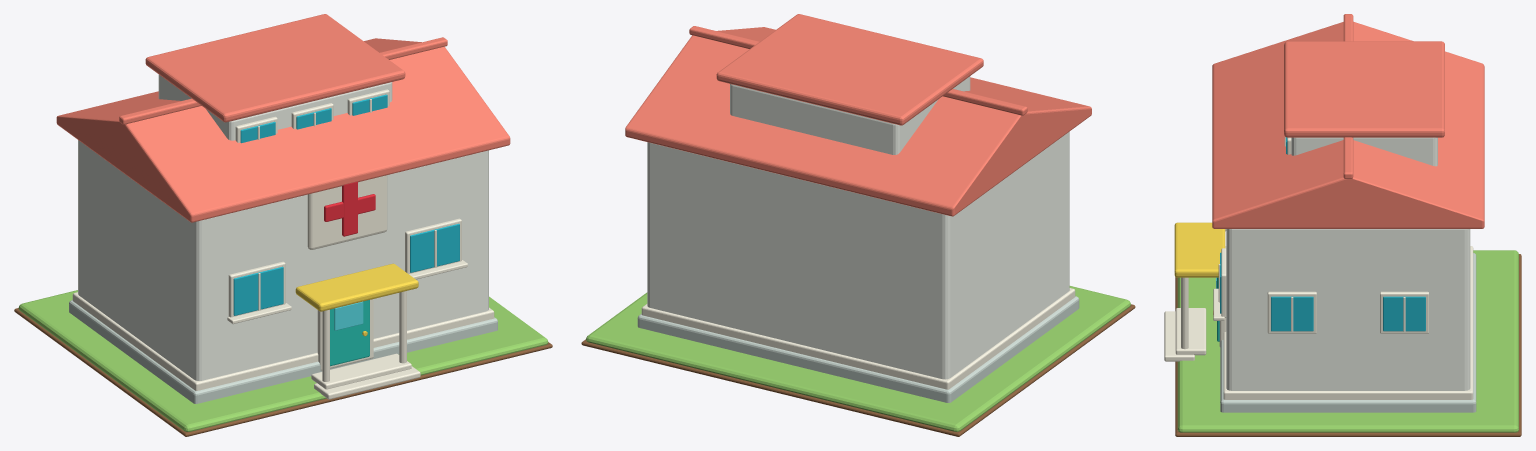
The model's file is SM_Hospital.fbx.
3 renders of one model, left to right at view 1: azimuth 30°, elevation 25°; view 2: azimuth 150°, elevation 25°; view 3: azimuth 270°, elevation 25°, orthographic. The views are drawn at different scales.
Visible parts, largest first — view 1: Main building volume.002, Solid pitched roof.004, Hospital upper cap, Beveled site foundation.008, Stone building plinth.002, Wall base course.002, Hospital sign board, Entrance canopy.003, Foundation shadow course.008, Hospital upper floor, Recessed turquoise glass.037, Recessed turquoise glass.038 (+12 smaller); view 2: Main building volume.002, Solid pitched roof.004, Hospital upper cap, Beveled site foundation.008, Stone building plinth.002, Hospital upper floor, Wall base course.002, Foundation shadow course.008, Roof ridge cap.004; view 3: Main building volume.002, Solid pitched roof.004, Beveled site foundation.008, Hospital upper cap, Stone building plinth.002, Wall base course.002, Entrance canopy.003, Foundation shadow course.008, Hospital upper floor, Side glass.017, Side glass.016, Porch step.005 (+6 smaller).
Part boxes in pixels (x1=…): Main building volume.002: x1=78, y1=140, x2=488, y2=380; Solid pitched roof.004: x1=56, y1=38, x2=510, y2=222; Hospital upper cap: x1=145, y1=14, x2=405, y2=122; Beveled site foundation.008: x1=18, y1=290, x2=548, y2=431; Stone building plinth.002: x1=69, y1=300, x2=497, y2=403; Wall base course.002: x1=72, y1=292, x2=494, y2=390; Hospital sign board: x1=307, y1=175, x2=387, y2=249; Entrance canopy.003: x1=295, y1=263, x2=418, y2=311; Foundation shadow course.008: x1=14, y1=308, x2=552, y2=436; Hospital upper floor: x1=158, y1=74, x2=392, y2=140; Recessed turquoise glass.037: x1=233, y1=266, x2=283, y2=315; Recessed turquoise glass.038: x1=410, y1=223, x2=459, y2=272; Main building volume.002: x1=647, y1=131, x2=1069, y2=379; Solid pitched roof.004: x1=625, y1=27, x2=1091, y2=216; Hospital upper cap: x1=716, y1=14, x2=983, y2=125; Beveled site foundation.008: x1=586, y1=286, x2=1130, y2=431; Stone building plinth.002: x1=637, y1=296, x2=1079, y2=402; Hospital upper floor: x1=730, y1=76, x2=970, y2=154; Wall base course.002: x1=641, y1=288, x2=1075, y2=389; Foundation shadow course.008: x1=581, y1=304, x2=1135, y2=436; Roof ridge cap.004: x1=689, y1=26, x2=1027, y2=115; Main building volume.002: x1=1226, y1=229, x2=1470, y2=390; Solid pitched roof.004: x1=1212, y1=21, x2=1484, y2=228; Beveled site foundation.008: x1=1177, y1=250, x2=1518, y2=432; Hospital upper cap: x1=1284, y1=41, x2=1444, y2=137; Stone building plinth.002: x1=1220, y1=253, x2=1476, y2=412; Wall base course.002: x1=1223, y1=246, x2=1473, y2=399; Entrance canopy.003: x1=1174, y1=222, x2=1225, y2=277; Foundation shadow course.008: x1=1175, y1=254, x2=1521, y2=436; Hospital upper floor: x1=1291, y1=137, x2=1437, y2=166; Side glass.017: x1=1383, y1=296, x2=1425, y2=331; Side glass.016: x1=1271, y1=296, x2=1313, y2=331; Porch step.005: x1=1175, y1=308, x2=1206, y2=355.
Bounding box in the file's own units: 10.52 × 7.12 × 8.79.
